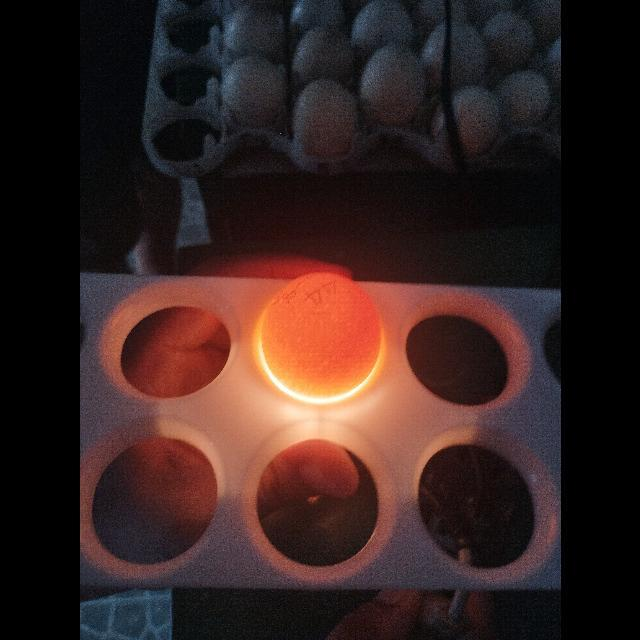Infertile: (256, 268, 386, 406)
